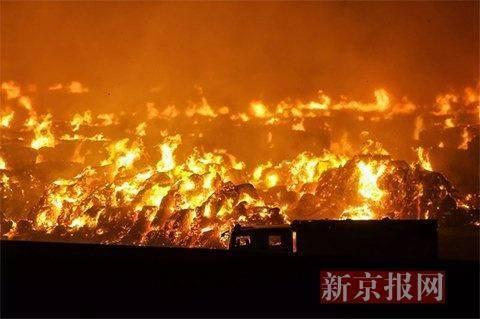fire: (44, 69, 398, 135), (98, 139, 278, 198), (349, 150, 384, 215)
